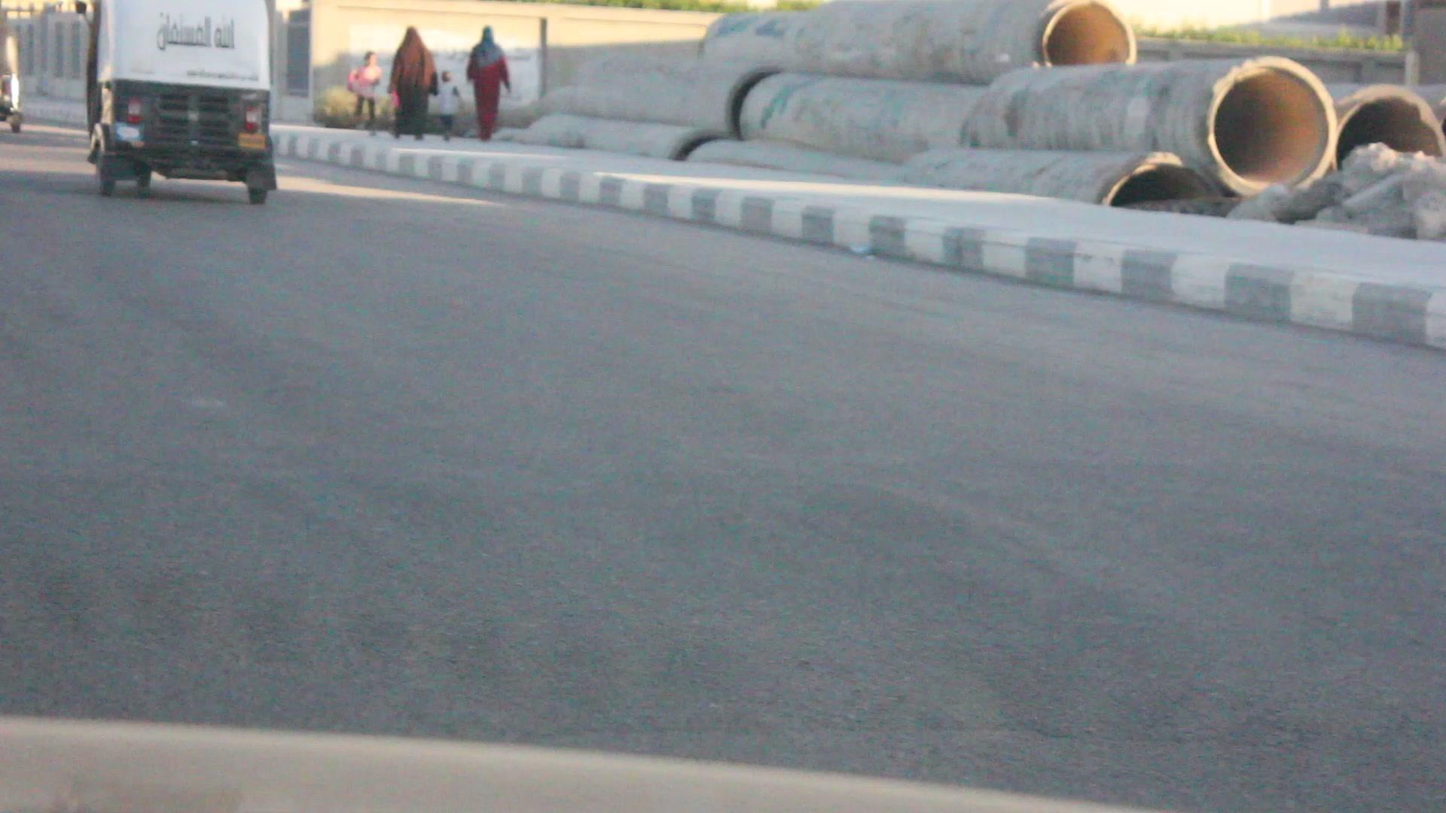Bump: (0, 307, 1445, 719)
